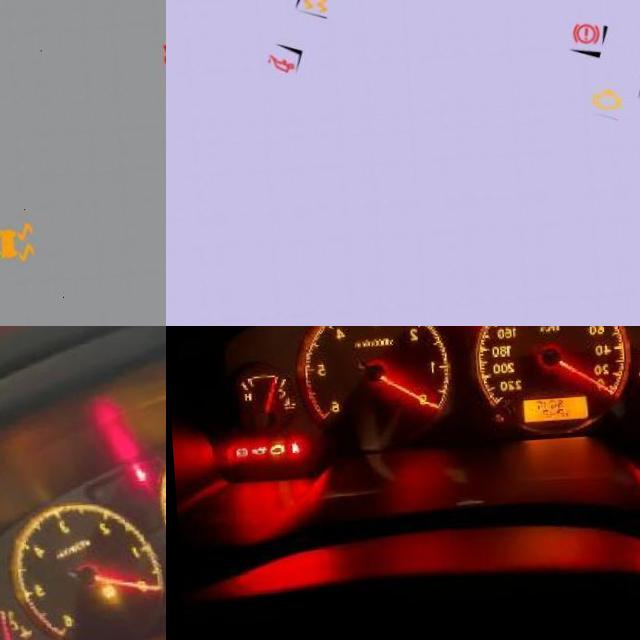High Engine Coolant Temperature: (277, 399, 291, 413), (5, 633, 25, 640)
